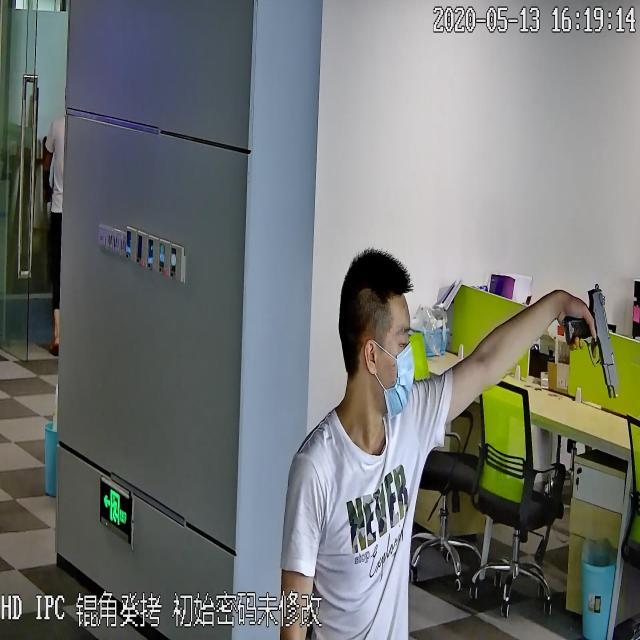gun: (563, 280, 623, 404)
